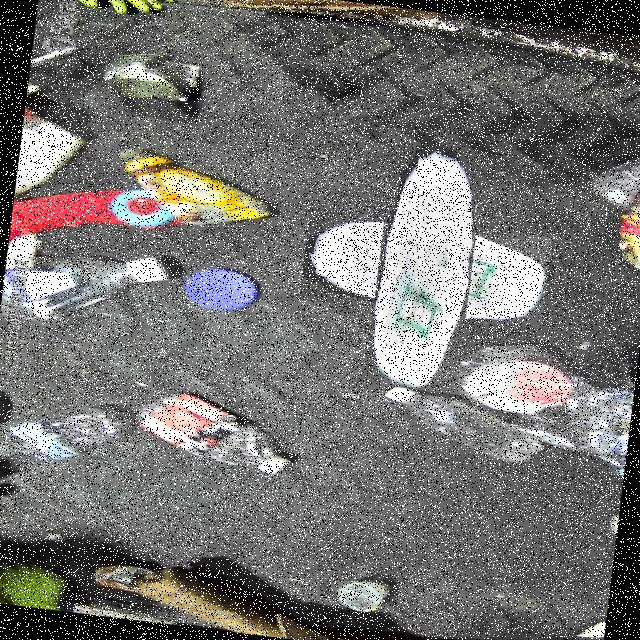milk-jug: (330, 174, 518, 362)
